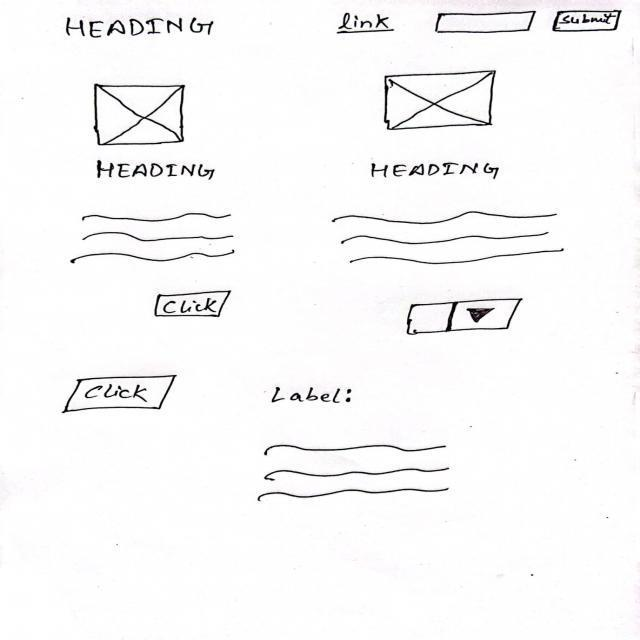textbox: (434, 11, 544, 38)
